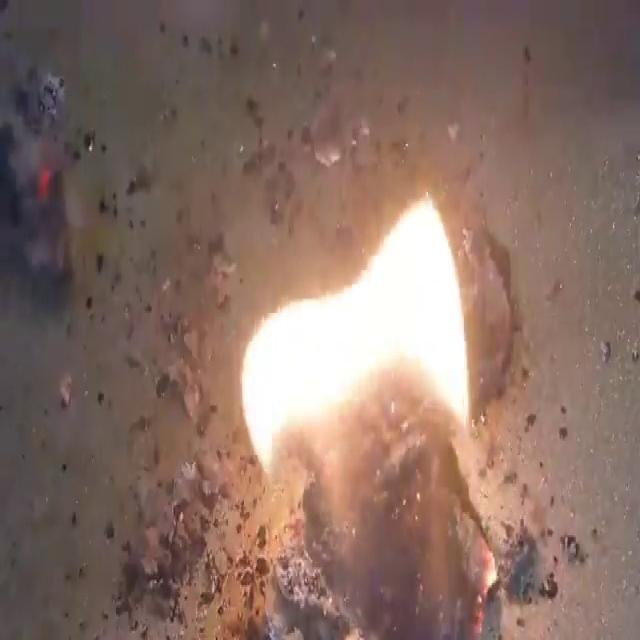Fire: (208, 194, 526, 638)
